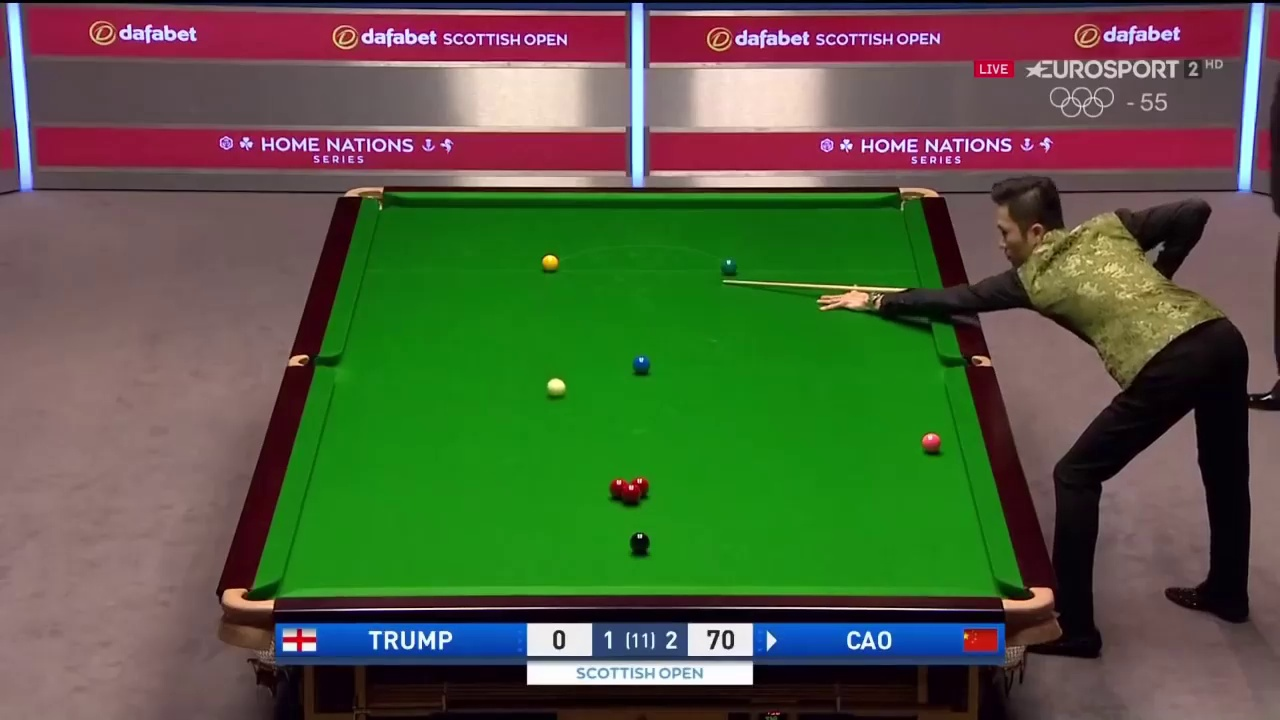black: (630, 532, 649, 551)
blue: (633, 353, 652, 374)
green: (720, 258, 739, 274)
pink: (922, 430, 940, 455)
red: (624, 485, 640, 503)
white: (546, 379, 567, 399)
yellow: (540, 252, 559, 273)
